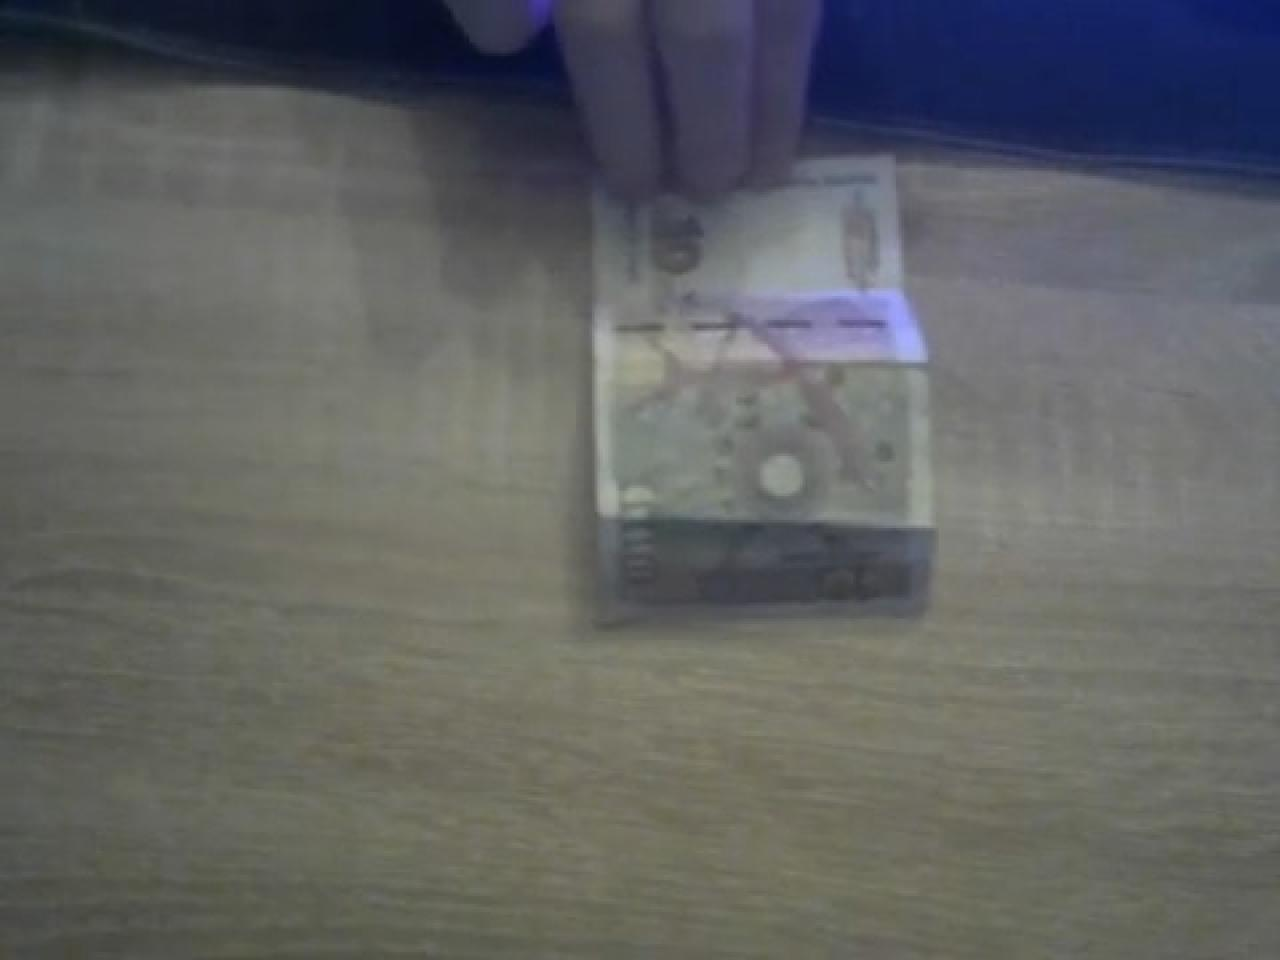10leva: (595, 165, 938, 613)
